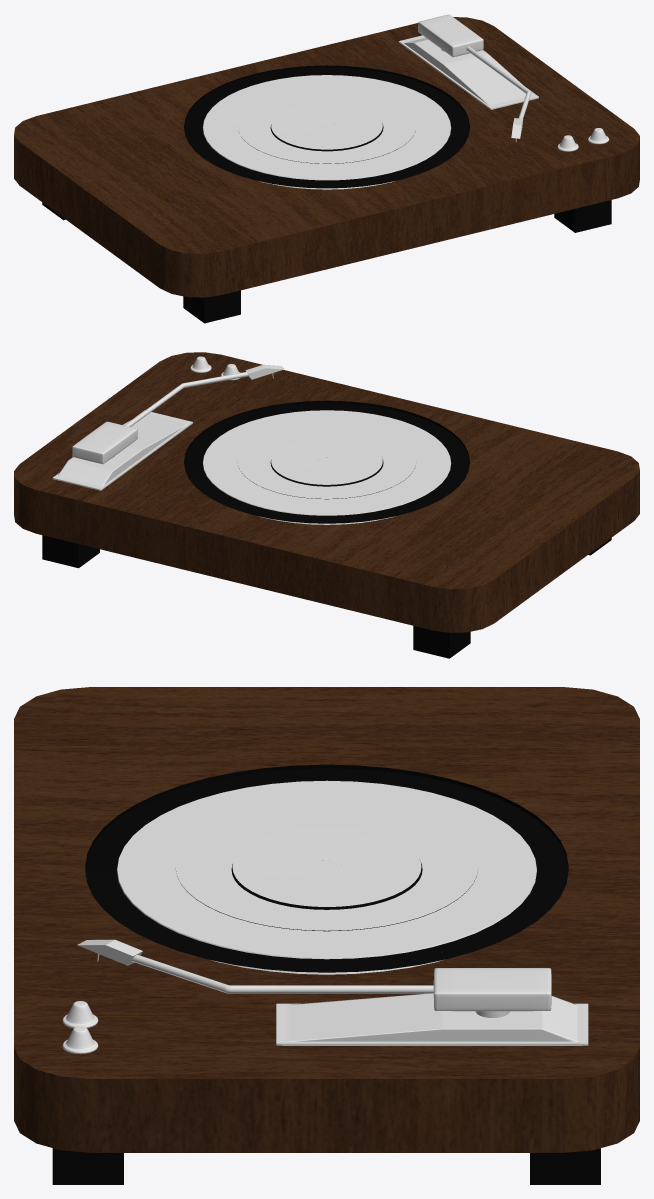
Rendered from turntable.gltf.
3 views of the same model, one above another, from view 1: azimuth 30°, elevation 25°; view 2: azimuth 150°, elevation 25°; view 3: azimuth 270°, elevation 25° (orthographic). The views are drawn at different scales.
Parts seen in each view (by area): view 1: music player, player, disk, player.002, player legs, player.001, Vert; view 2: music player, player, disk, player.002, player legs, player.001, Vert; view 3: music player, player, disk, player.002, player.001, player legs, Vert, player.003, player knob.
Part boxes in pixels (x1,y1,x2,y2): music player: (14,17,639,297); player: (203,75,451,189); disk: (184,65,469,188); player.002: (398,35,538,109); player legs: (42,200,611,323); player.001: (418,14,483,57); Vert: (466,46,531,118); music player: (14,352,639,632); player: (202,410,451,524); disk: (184,400,469,523); player.002: (52,410,192,490); player legs: (42,535,611,658); player.001: (72,421,137,464); Vert: (125,372,248,426); music player: (14,687,639,1152); player: (116,780,536,974); disk: (85,764,568,972); player.002: (276,993,588,1045); player.001: (433,968,551,1017); player legs: (52,1148,600,1184); Vert: (132,954,433,993); player.003: (77,939,142,965); player knob: (62,1026,98,1054).
Bounding box in the file's own units: 1.12 × 0.2405 × 0.7595.
Materials: 4 (1 with a texture image).
